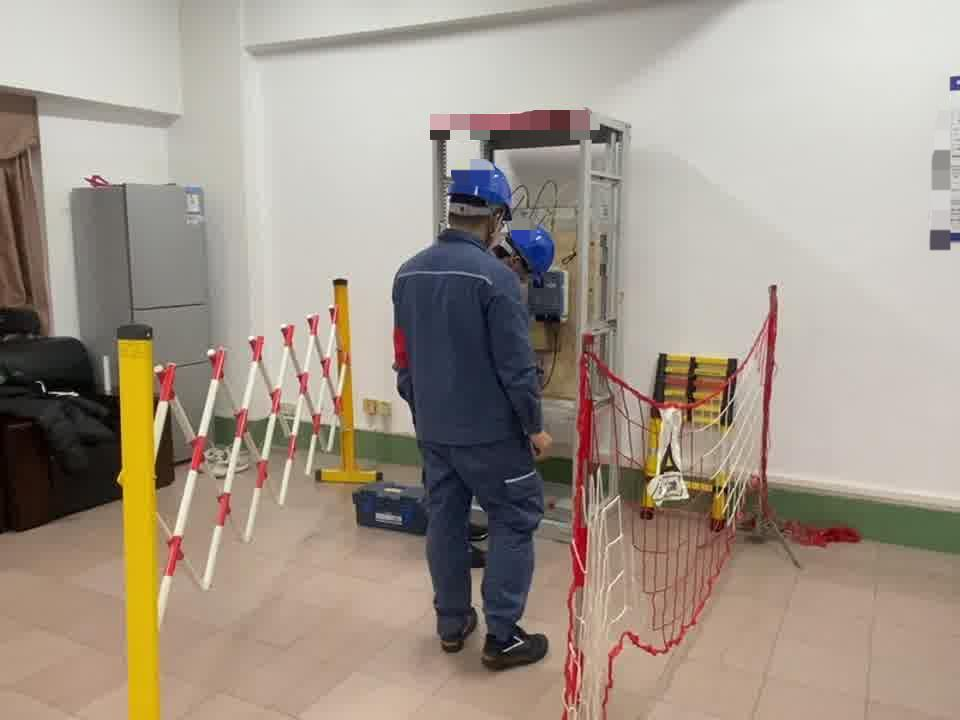halt: (447, 160, 517, 254), (493, 224, 559, 282)
inear: (485, 209, 509, 243)
